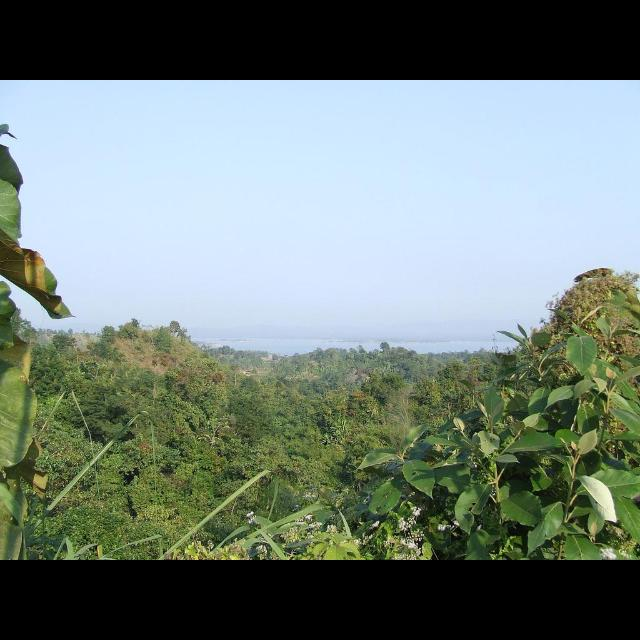Flower: (232, 512, 460, 560), (411, 504, 421, 516)
